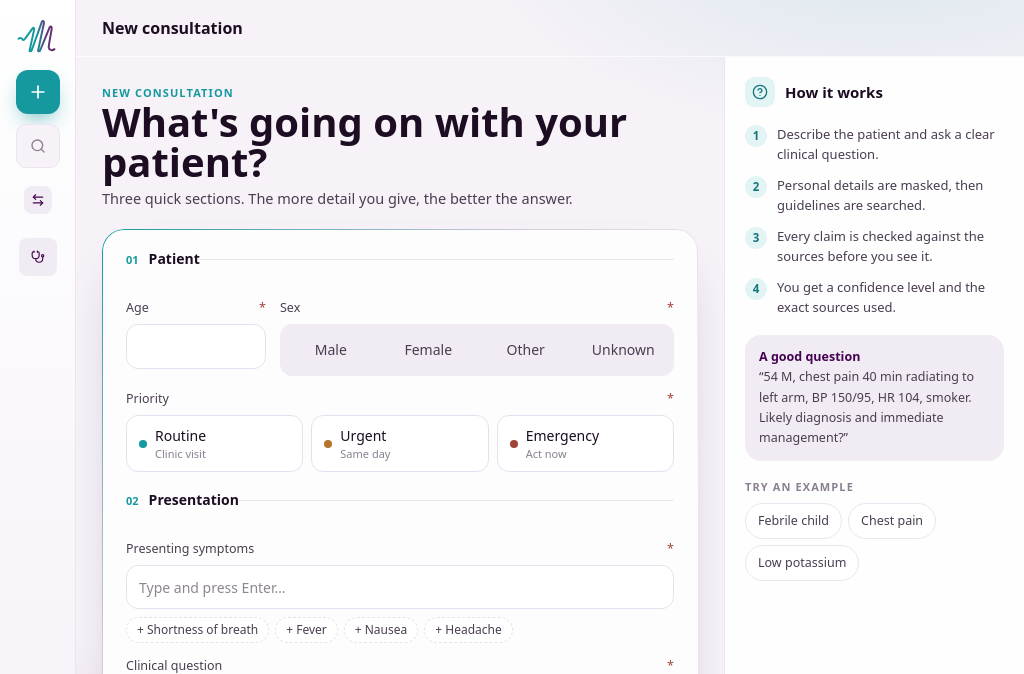
Home › asks before New consultation mid-draft, and Discard gives a clean form
The width and height of the screenshot is (1024, 674).
In the field labelled "Age *": (196, 346) [126, 324, 266, 368], type "54"
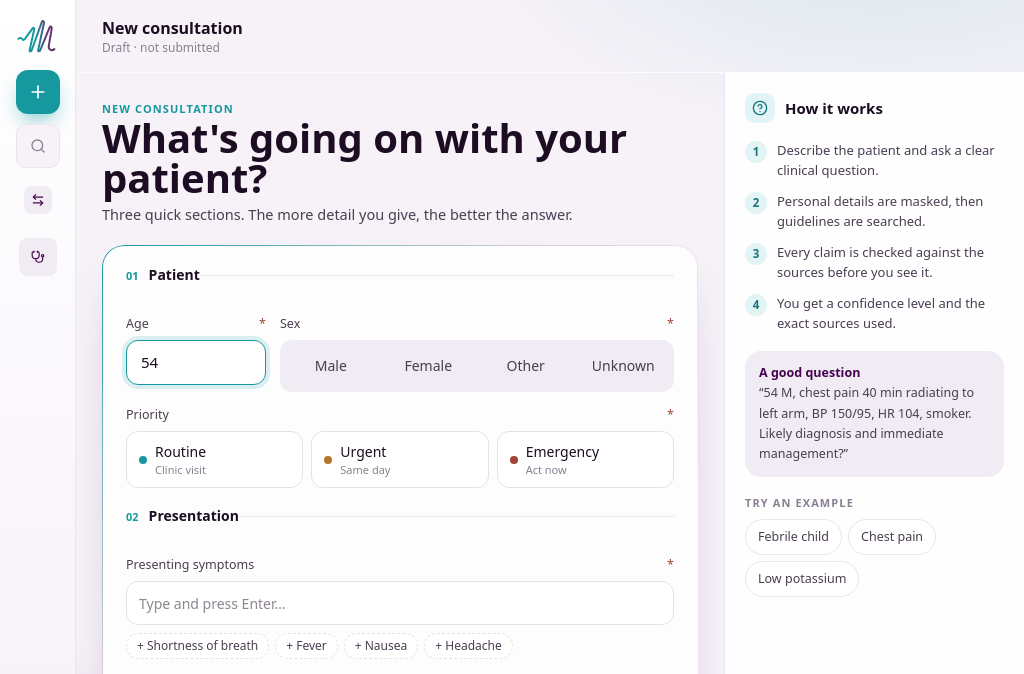
Click the link named "New consultation": (38, 92) [16, 70, 60, 114]
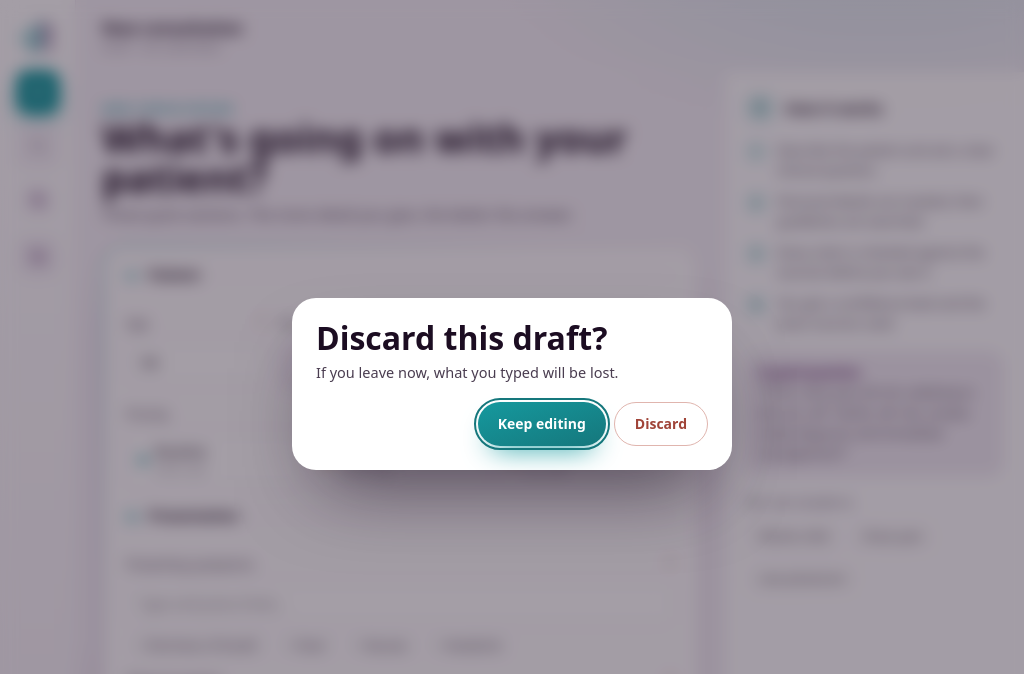
Check: the dialog "Discard this draft?" is shown, box [292, 298, 732, 470]
Click the button "Discard": (661, 424) [614, 402, 708, 446]
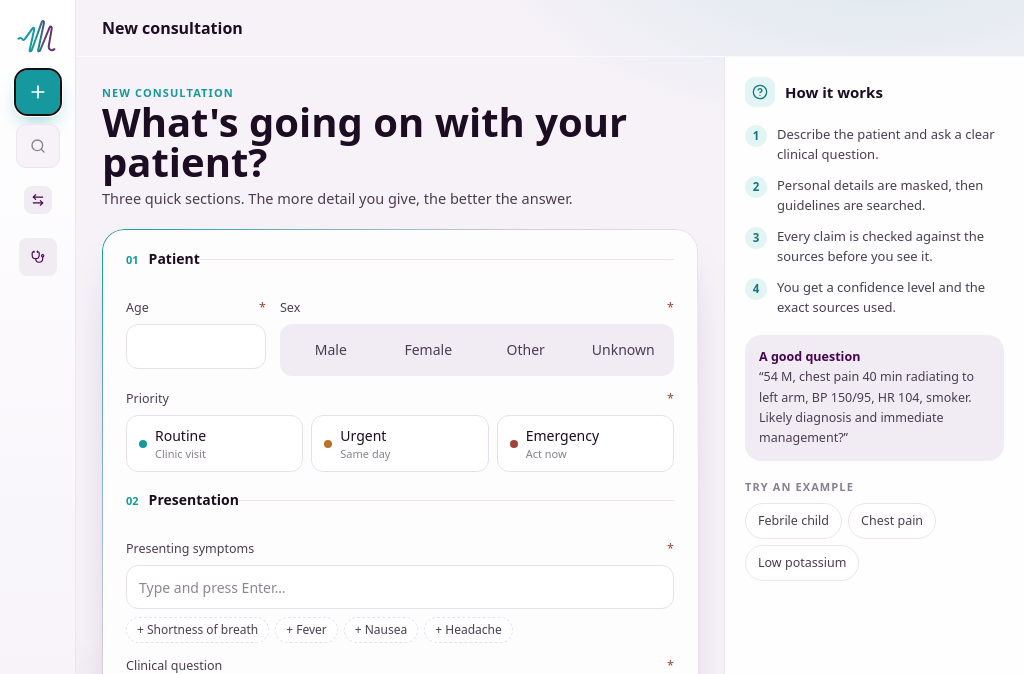
Check: the field labelled "Age *" is empty, box [126, 324, 266, 368]
Check: the text "Draft · not submitted" is gone
